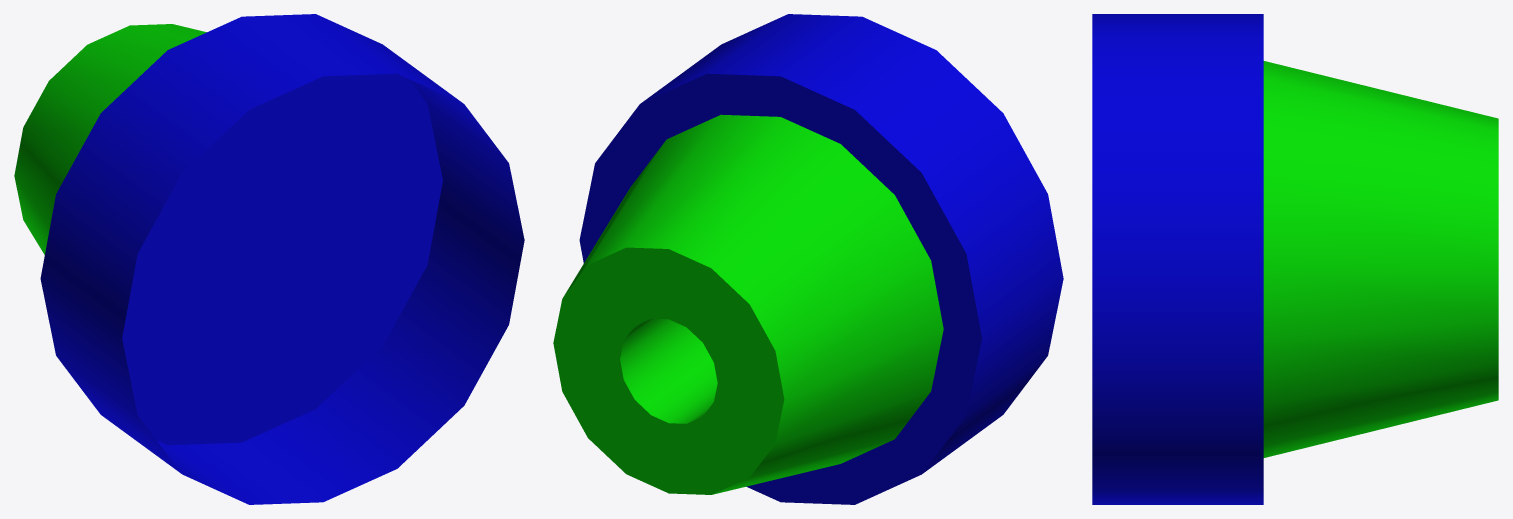
Rendered from ReactorBot_LVL0.FBX.
3 renders of one model, left to right at view 1: azimuth 30°, elevation 25°; view 2: azimuth 150°, elevation 25°; view 3: azimuth 270°, elevation 25°, orthographic. The views are drawn at different scales.
Visible parts, largest first — view 1: ReactorBot_LVL0; view 2: ReactorBot_LVL0; view 3: ReactorBot_LVL0.
Part boxes in pixels (left/top/right/bottom): ReactorBot_LVL0: left=14, top=14, right=524, bottom=504; ReactorBot_LVL0: left=553, top=14, right=1063, bottom=504; ReactorBot_LVL0: left=1092, top=14, right=1498, bottom=504.
Size of the model in its own units: 30.2 by 30.53 by 25.14.
